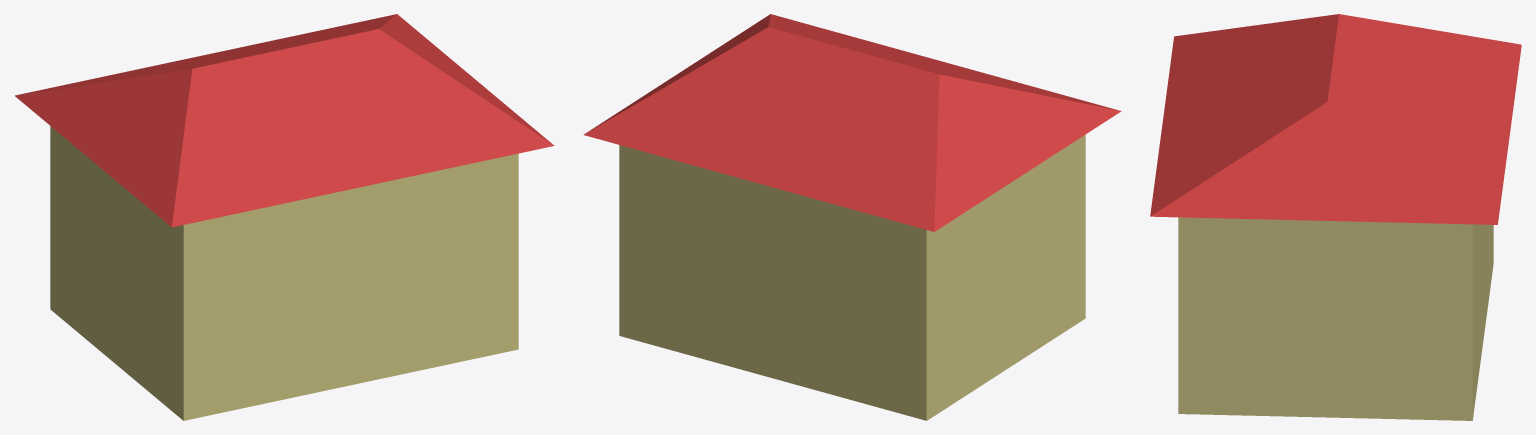
The picture shows the model from 3 angles, left to right: view 1: azimuth 30°, elevation 25°; view 2: azimuth 150°, elevation 25°; view 3: azimuth 270°, elevation 25°; orthographic projection. The views are drawn at different scales.
Visible parts, largest first — view 1: group_5, group_3, group_4; view 2: group_5, group_3, group_4; view 3: group_5, group_3, group_4.
Boxes of the visible parts, x1,y1,x2,y2 form: group_5: (50,126,518,420); group_3: (15,14,554,226); group_4: (18,14,552,227); group_5: (619,134,1085,420); group_3: (583,14,1120,231); group_4: (584,14,1121,231); group_5: (1178,217,1493,420); group_3: (1150,14,1521,224); group_4: (1150,31,1521,224).
Bounding box in the file's own units: 16.76 × 13.96 × 11.63.
